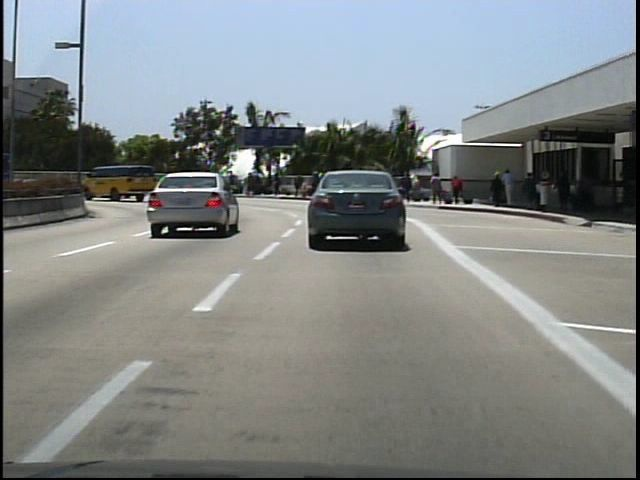person: (575, 166, 596, 218), (554, 164, 574, 214), (521, 169, 540, 212), (502, 166, 519, 210), (429, 169, 447, 206), (450, 172, 468, 209), (489, 171, 506, 209), (402, 169, 416, 204), (105, 163, 120, 193), (164, 169, 180, 194)
